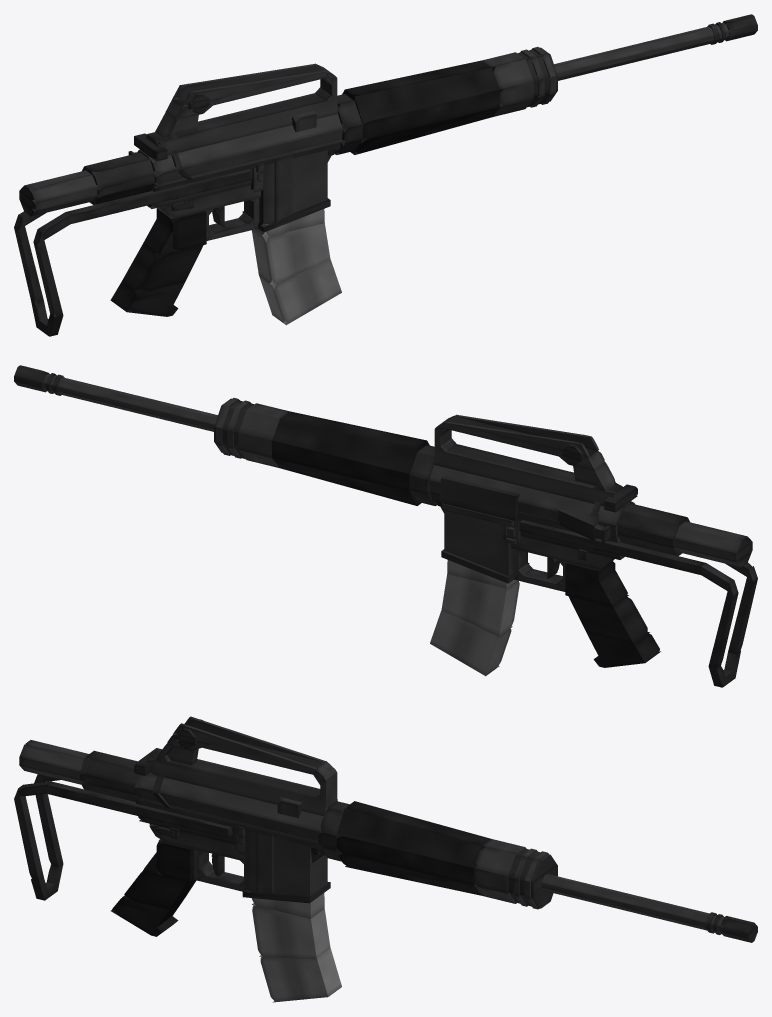
3 renders of one model, top to bottom at view 1: azimuth 30°, elevation 25°; view 2: azimuth 150°, elevation 25°; view 3: azimuth 330°, elevation 25°, orthographic.
Parts seen in each view (by area): view 1: gunModel64, gunModel18, ammoModel1, gunModel0, ammoModel2, gunModel5, gunModel69, gunModel95, gunModel8, gunModel1, gunModel66, gunModel10 (+23 smaller); view 2: gunModel64, gunModel18, ammoModel1, gunModel5, ammoModel2, gunModel69, gunModel8, gunModel94, gunModel0, gunModel38, gunModel66, gunModel10 (+23 smaller); view 3: gunModel64, gunModel18, ammoModel1, gunModel5, ammoModel2, gunModel0, gunModel69, gunModel95, gunModel66, gunModel1, gunModel8, gunModel68 (+25 smaller).
Part boxes in pixels (x1,y1,x2,y2): gunModel64: (342, 60, 499, 122); gunModel18: (146, 93, 337, 154); ammoModel1: (251, 223, 330, 285); gunModel0: (137, 114, 342, 174); ammoModel2: (259, 259, 341, 325); gunModel5: (253, 150, 327, 227); gunModel69: (338, 89, 499, 140); gunModel95: (66, 169, 252, 224); gunModel8: (122, 244, 203, 293); gunModel1: (151, 129, 342, 184); gunModel66: (554, 23, 728, 73); gunModel10: (110, 282, 184, 316); gunModel64: (272, 411, 429, 473); gunModel18: (434, 444, 625, 506); ammoModel1: (441, 574, 519, 636); gunModel5: (444, 510, 512, 575); ammoModel2: (430, 610, 511, 676); gunModel69: (272, 440, 409, 491); gunModel8: (568, 596, 649, 644); gunModel94: (519, 520, 705, 575); gunModel0: (429, 465, 634, 525); gunModel38: (439, 475, 519, 520); gunModel66: (43, 374, 217, 424); gunModel10: (587, 633, 660, 667); gunModel64: (337, 801, 491, 867); gunModel18: (146, 749, 337, 816); ammoModel1: (252, 905, 330, 959); gunModel5: (245, 831, 327, 895); ammoModel2: (260, 948, 341, 1002); gunModel0: (134, 772, 323, 831); gunModel69: (336, 836, 477, 885); gunModel95: (46, 781, 232, 837); gunModel66: (542, 874, 727, 926); gunModel1: (134, 787, 320, 840); gunModel8: (122, 870, 196, 908); gunModel68: (338, 854, 481, 895).
Bounding box in the file's own units: 25.95 × 8.66 × 2.
